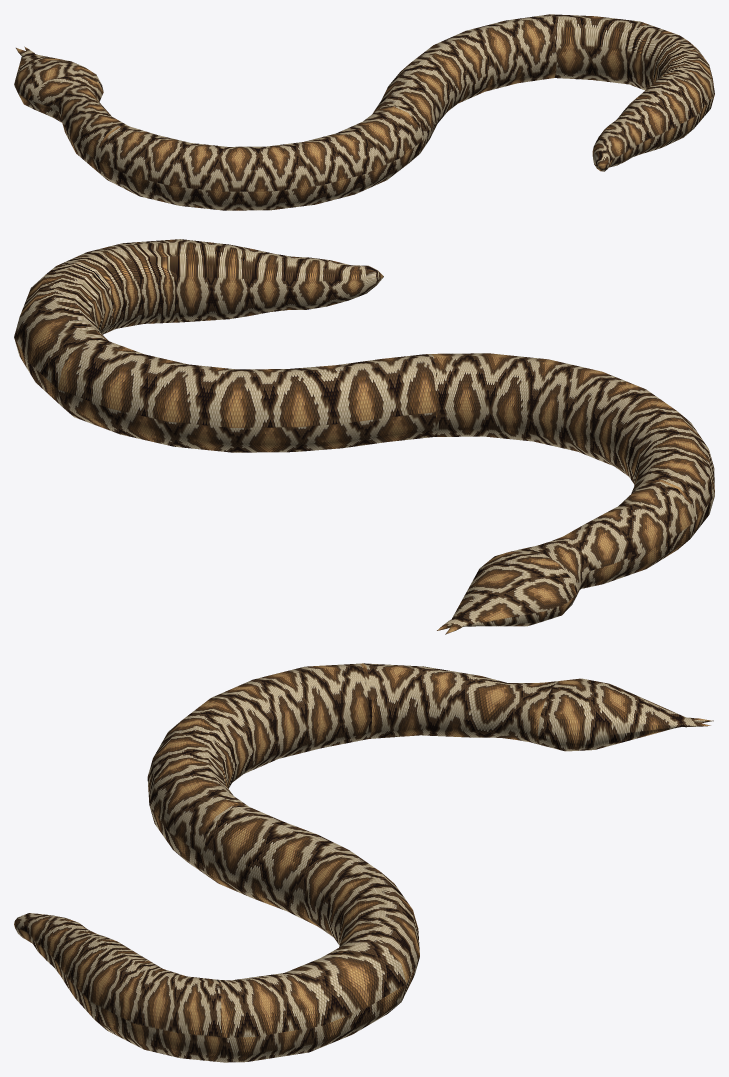
File: 41Snake.fbx
3 views of the same model, one above another, from view 1: azimuth 30°, elevation 25°; view 2: azimuth 150°, elevation 25°; view 3: azimuth 270°, elevation 25° (orthographic). The views are drawn at different scales.
Parts seen in each view (by area): view 1: Torus003; view 2: Torus003; view 3: Torus003.
Part boxes in pixels (x1,y1,x2,y2): Torus003: (14,14,714,210); Torus003: (14,239,714,634); Torus003: (14,663,713,1062).
Size of the model in its own units: 21.82 by 2.21 by 18.36.
